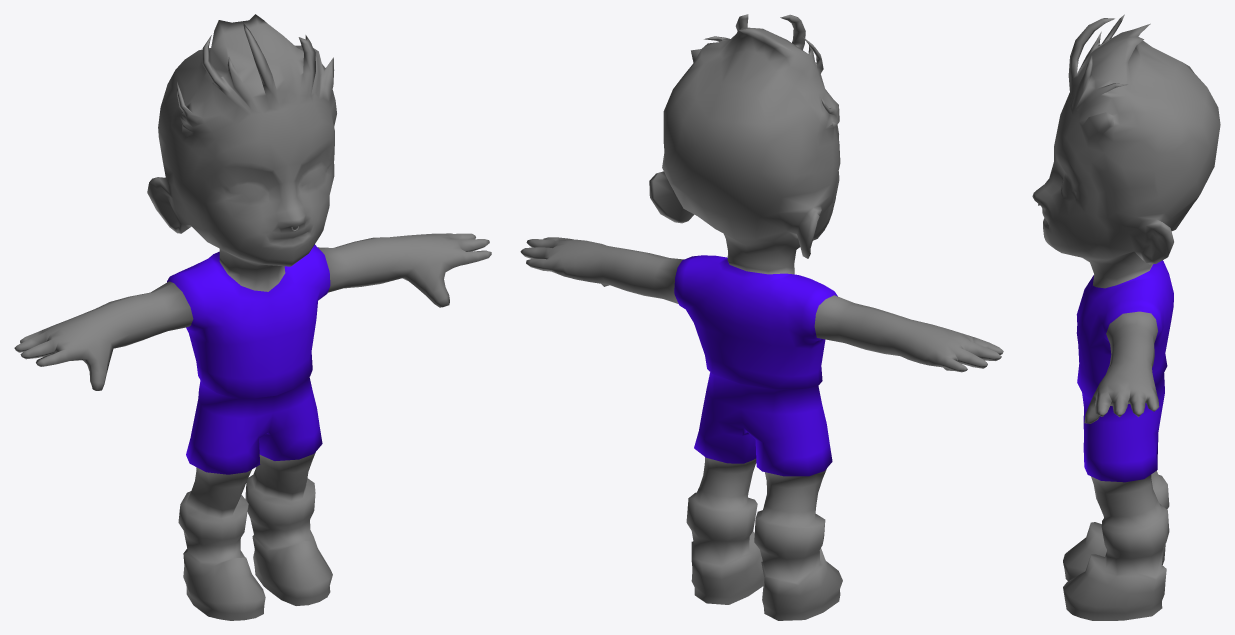
Rendered from Queen_Low.fbx.
3 renders of one model, left to right at view 1: azimuth 30°, elevation 25°; view 2: azimuth 150°, elevation 25°; view 3: azimuth 270°, elevation 25°, orthographic. The views are drawn at different scales.
Parts seen in each view (by area): view 1: Queen_Low; view 2: Queen_Low; view 3: Queen_Low.
Part boxes in pixels (x1,y1,x2,y2): Queen_Low: (14, 14, 491, 620); Queen_Low: (520, 14, 1003, 620); Queen_Low: (1032, 14, 1220, 620).
Size of the model in its own units: 79.05 by 92.62 by 27.85.
